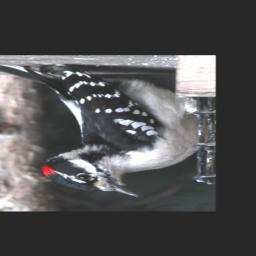Woodpecker: (0, 65, 208, 197)
